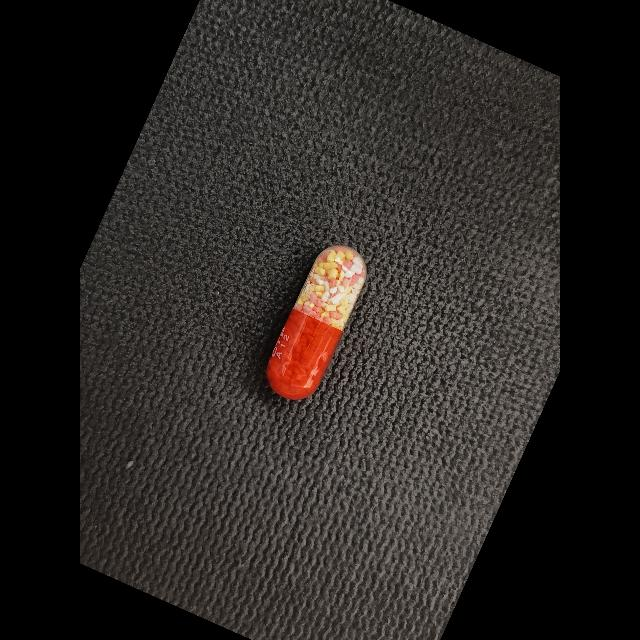Intact Capsule: (266, 245, 367, 400)
